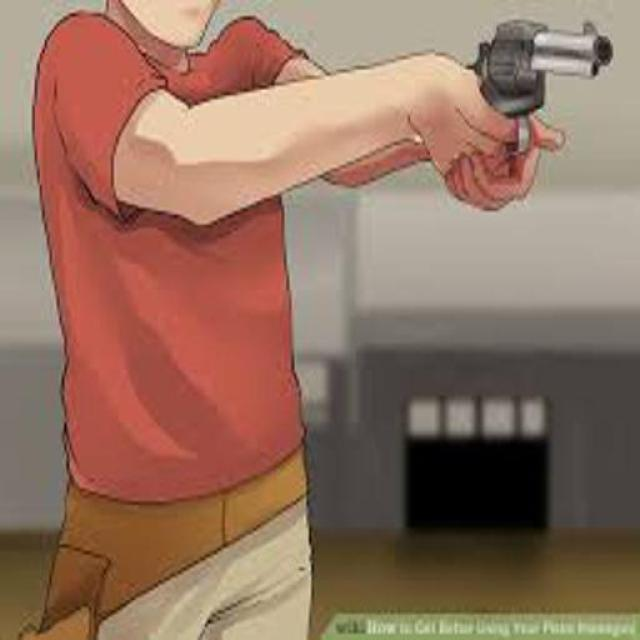pistol: (451, 2, 625, 191)
